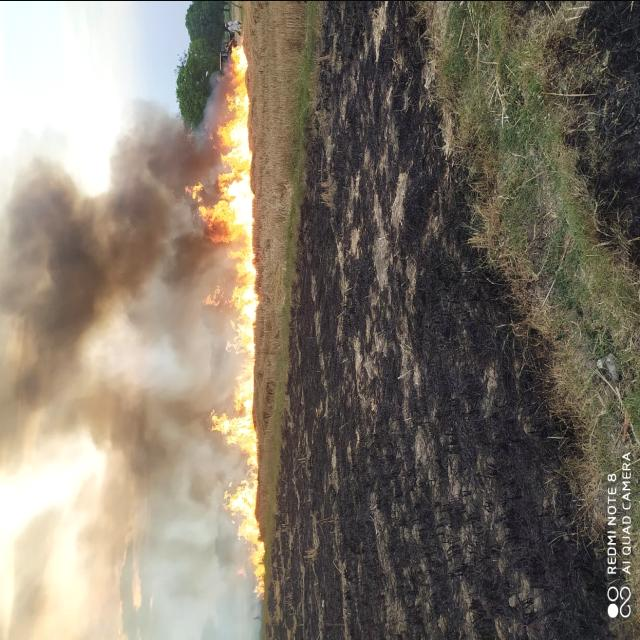firerotation: (0, 38, 265, 640)
